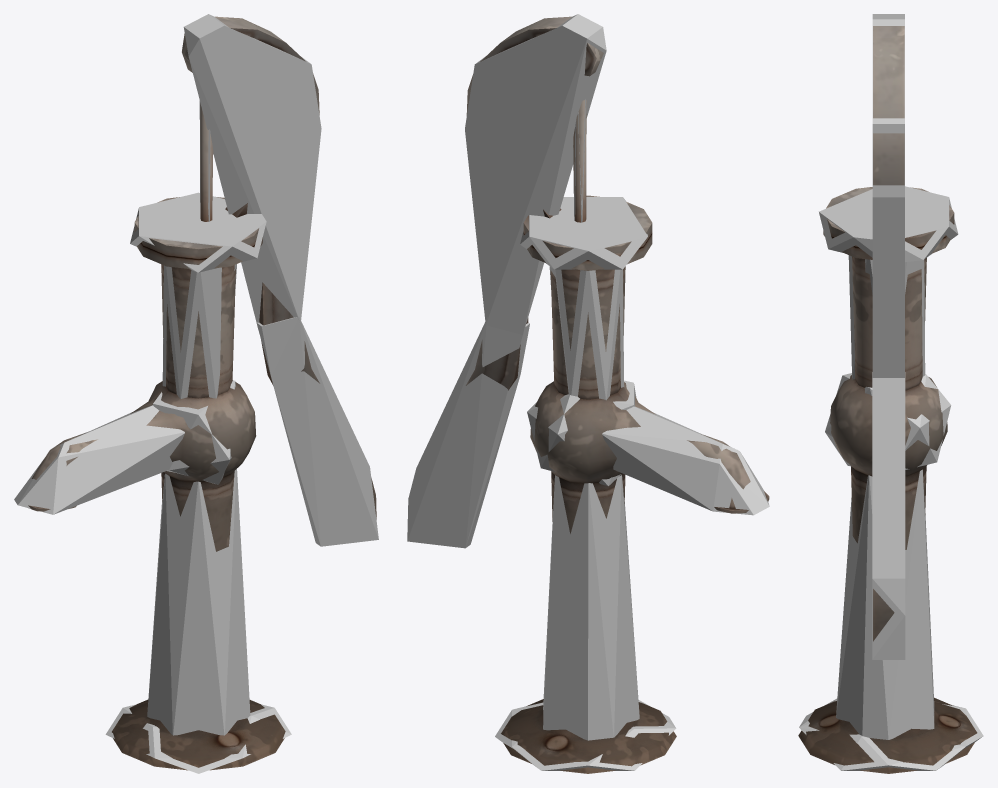
File: SM_WellIron01.fbx
3 renders of one model, left to right at view 1: azimuth 30°, elevation 25°; view 2: azimuth 150°, elevation 25°; view 3: azimuth 270°, elevation 25°, orthographic. The views are drawn at different scales.
Parts seen in each view (by area): view 1: SM_WellIron01_ConvexHulls, SM_WellIron01; view 2: SM_WellIron01_ConvexHulls, SM_WellIron01; view 3: SM_WellIron01_ConvexHulls, SM_WellIron01.
Boxes of the visible parts, box(x1,y1,x2,y2) form: SM_WellIron01_ConvexHulls: box(14, 14, 378, 773); SM_WellIron01: box(28, 16, 376, 770); SM_WellIron01_ConvexHulls: box(407, 14, 769, 770); SM_WellIron01: box(466, 16, 769, 773); SM_WellIron01_ConvexHulls: box(799, 14, 983, 770); SM_WellIron01: box(798, 26, 977, 773).
Bounding box in the file's own units: 84.07 × 37.44 × 162.
Materials: 2 (1 with a texture image).
